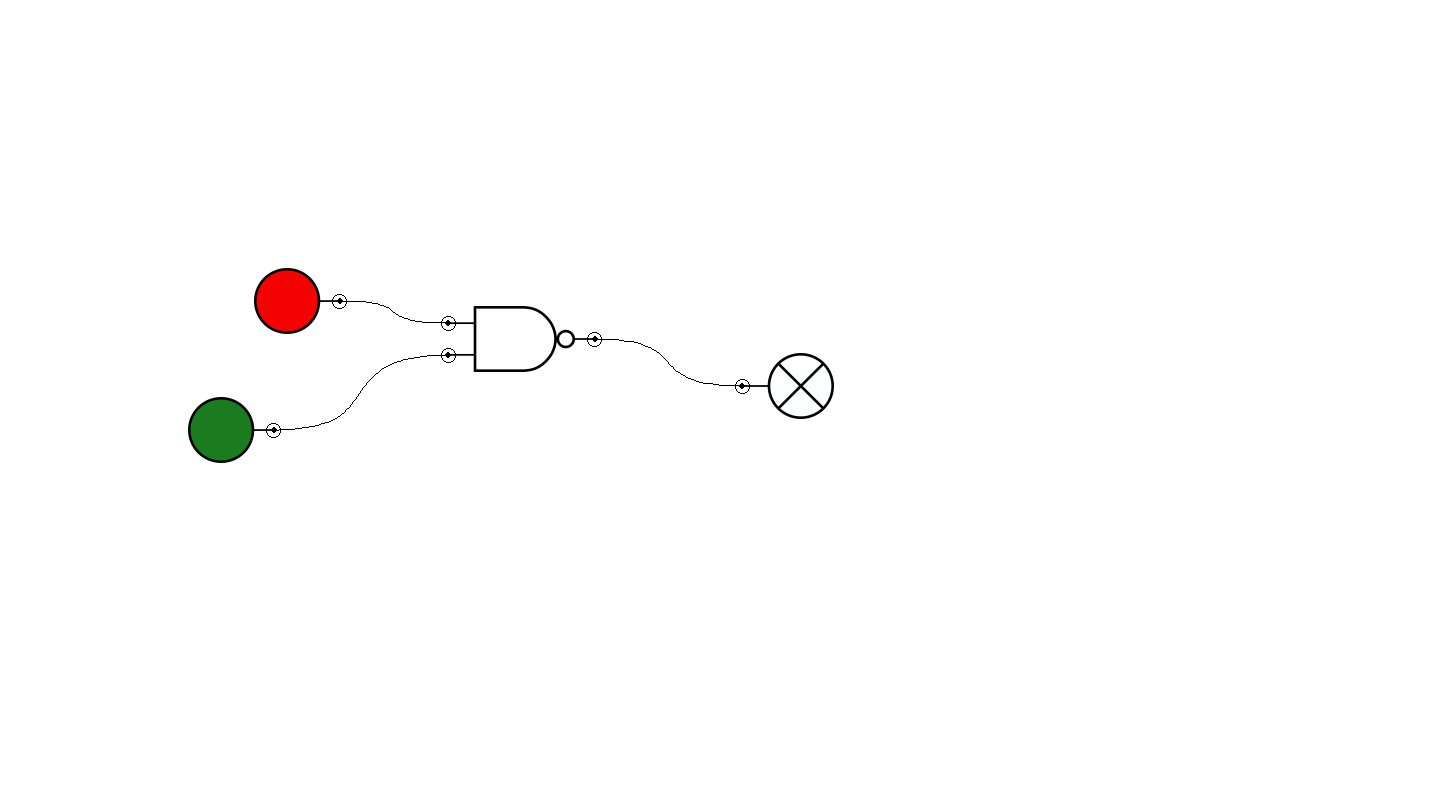bulb: (735, 353, 834, 419)
nand: (441, 306, 602, 372)
switch_False: (254, 268, 347, 334)
switch_True: (188, 397, 281, 463)
